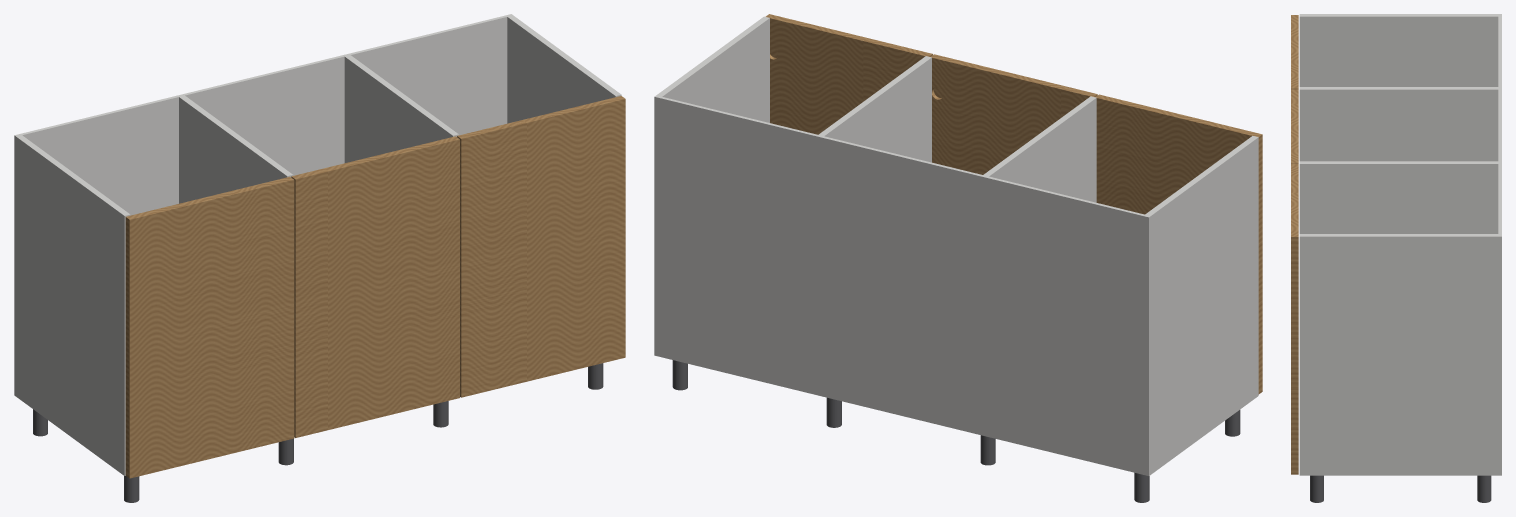
Rendered from w1500_none_default_closed.glb.
3 renders of one model, left to right at view 1: azimuth 30°, elevation 25°; view 2: azimuth 150°, elevation 25°; view 3: azimuth 270°, elevation 25°, orthographic. The views are drawn at different scales.
Parts seen in each view (by area): view 1: oak, white, leg; view 2: white, oak, leg; view 3: white, oak, leg.
Part boxes in pixels (x1,y1,x2,y2): oak: (125, 96, 625, 478); white: (14, 14, 621, 475); leg: (33, 363, 603, 502); white: (654, 16, 1258, 475); oak: (765, 14, 1262, 394); leg: (672, 360, 1240, 502); white: (1299, 14, 1501, 475); oak: (1291, 15, 1298, 474); leg: (1310, 475, 1491, 502).
Size of the model in its own units: 1.5 by 0.85 by 0.6.
3 materials, 1 textured.
